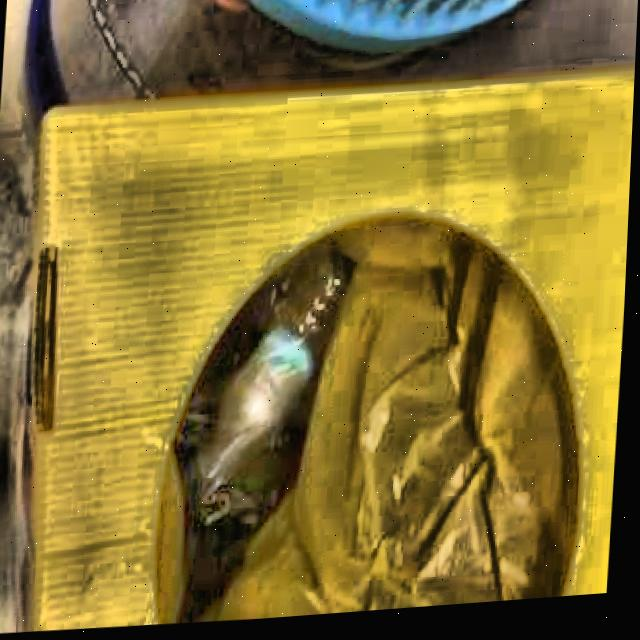plastic: (204, 248, 352, 484)
